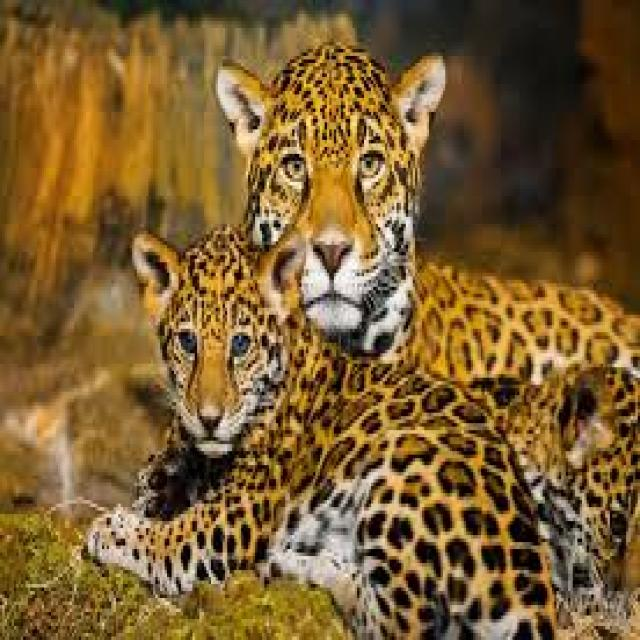Jaguar: (126, 220, 534, 640), (244, 63, 612, 315)
